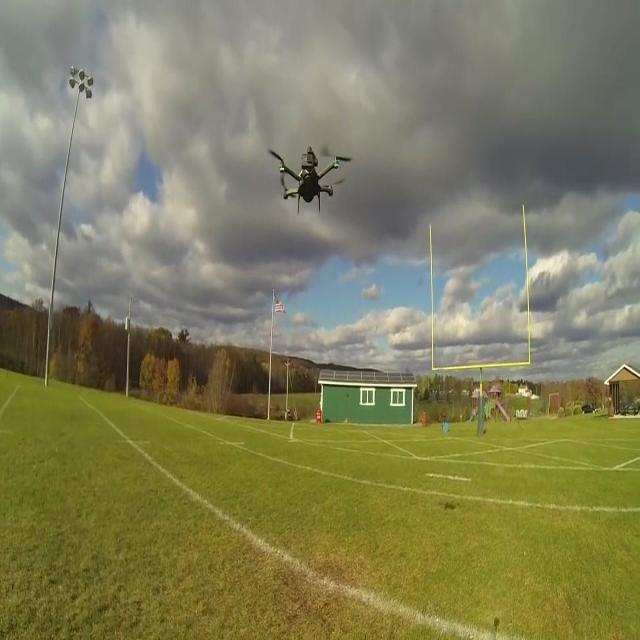drone: (275, 140, 344, 219)
